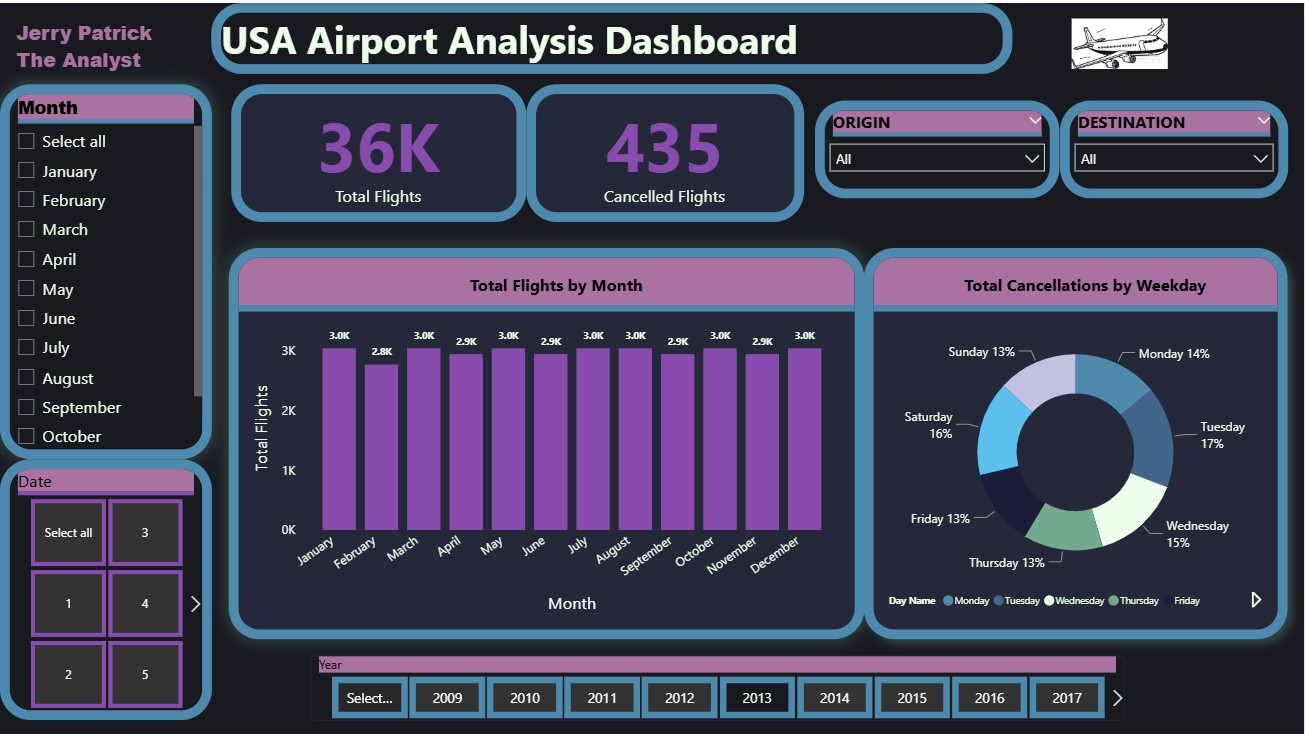

What the dashboard file says about the page in this screenshot:
{"tool":"powerbi","page":{"name":"Overview","canvas":[1280,720],"ordinal":0},"visuals":[{"type":"textbox","box":[207.7,0,786.2,69.7],"z":0},{"type":"card","fields":{"Values":["flights_data.Total Flights"]},"box":[226.4,79.6,289.8,135.6],"z":0,"group":"g1"},{"type":"group","id":"g1","title":"Group 1","box":[226.4,0,976,215.2],"z":1000},{"type":"card","fields":{"Values":["flights_data.Cancelled Flights"]},"box":[516.2,79.6,272.4,135.6],"z":1000,"group":"g1"},{"type":"clusteredColumnChart","fields":{"Category":["flights_data.Flight_Date.Variation.Date Hierarchy.Month"],"Y":["flights_data.Total Flights"]},"box":[224,240,624,384],"z":2000},{"type":"slicer","fields":{"Values":["flights_data.Flight_Date.Variation.Date Hierarchy.Month"]},"box":[0,80,208,368],"z":3000},{"type":"image","box":[994.4,0,208,80],"z":4000,"group":"g1"},{"type":"slicer","fields":{"Values":["flights_data.Flight_Date.Variation.Date Hierarchy.Day"]},"box":[0,448,208,256],"z":4000},{"type":"donutChart","title":"Total Cancellations by Weekday","fields":{"Y":["Sum(flights_data.CANCELLED)"],"Category":["flights_data.Day Name"]},"box":[848,240,416,384],"z":5000},{"type":"slicer","fields":{"Values":["flights_data.ORIGIN"]},"box":[800,96,240,96],"z":6000},{"type":"slicer","fields":{"Values":["flights_data.DESTINATION"]},"box":[1040,96,224,96],"z":7000},{"type":"slicer","fields":{"Values":["flights_data.Flight_Date.Variation.Date Hierarchy.Year"]},"box":[304,640,800,64],"z":8000},{"type":"textbox","box":[16,16,176,64],"z":9000}]}

Visuals, with their boxes in screenshot pixels (x1, y1, x2, y2), scaled from the page's 1280x720 canvas onto the 1305x734 screenshot:
textbox: (212, 0, 1013, 71)
card - flights_data.Total Flights: (231, 81, 526, 219)
"Group 1" group: (231, 0, 1226, 219)
card - flights_data.Cancelled Flights: (526, 81, 804, 219)
clusteredColumnChart - flights_data.Flight_Date.Variation.Date Hierarchy.Month x flights_data.Total Flights: (228, 245, 865, 636)
slicer - flights_data.Flight_Date.Variation.Date Hierarchy.Month: (0, 82, 212, 457)
image: (1014, 0, 1226, 82)
slicer - flights_data.Flight_Date.Variation.Date Hierarchy.Day: (0, 457, 212, 718)
"Total Cancellations by Weekday" donutChart: (865, 245, 1289, 636)
slicer - flights_data.ORIGIN: (816, 98, 1060, 196)
slicer - flights_data.DESTINATION: (1060, 98, 1289, 196)
slicer - flights_data.Flight_Date.Variation.Date Hierarchy.Year: (310, 652, 1126, 718)
textbox: (16, 16, 196, 82)
